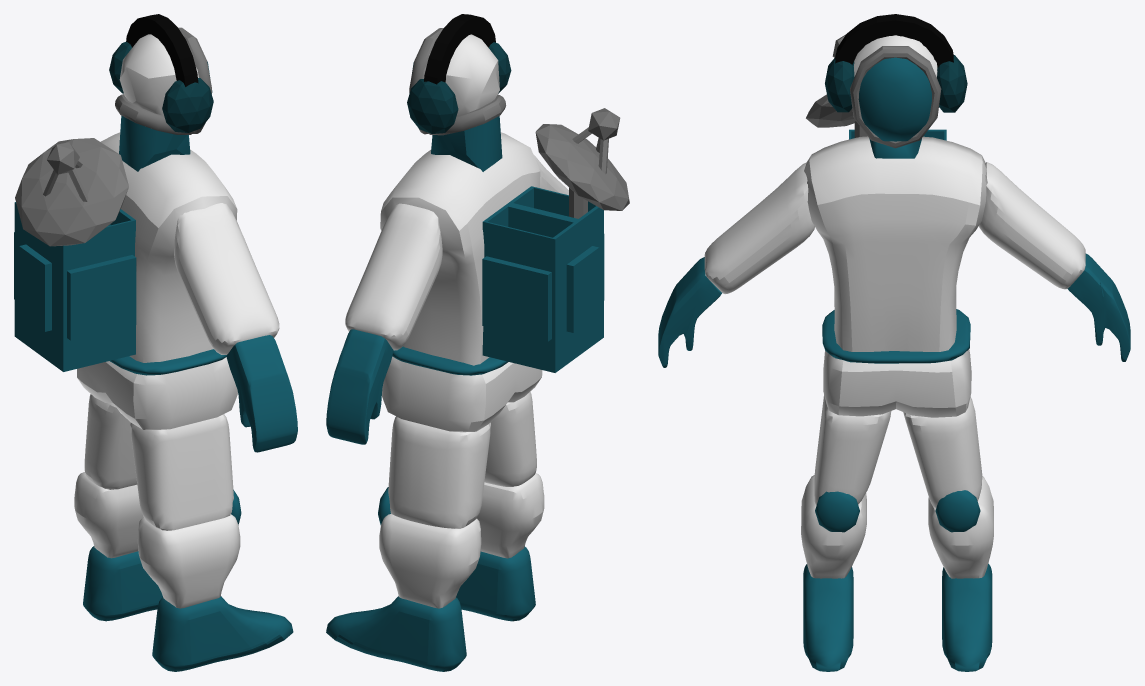
Rendered from Navigator.fbx.
3 renders of one model, left to right at view 1: azimuth 30°, elevation 25°; view 2: azimuth 150°, elevation 25°; view 3: azimuth 270°, elevation 25°, orthographic.
Visible parts, largest first — view 1: Cube.001, Body, ArmRight, LegRight, Icosphere.001, Cube.006, Cube.004, BottomLegRight, HandRight, Cube.002, Cube.003, BottomLegRight.001 (+6 smaller); view 2: Cube.001, Body, LegLeft, ArmLeft, Cube.006, Cube.003, BottomLegRight.001, Icosphere.001, HandRight.001, Cube.002, Cube.004, BottomLegRight (+7 smaller); view 3: Body, Cube.006, ArmRight, ArmLeft, Cube.002, LegLeft, LegRight, BlackCover, Cube.004, Cube.003, BottomLegRight, BottomLegRight.001 (+9 smaller).
Part boxes in pixels (x1,y1,x2,y2): Cube.001: (14, 202, 136, 371); Body: (100, 132, 237, 362); ArmRight: (174, 203, 279, 354); LegRight: (130, 414, 233, 530); Icosphere.001: (15, 138, 128, 246); Cube.006: (77, 357, 237, 430); Cube.004: (152, 596, 293, 671); BottomLegRight: (137, 514, 240, 608); HandRight: (226, 335, 297, 452); Cube.002: (109, 14, 213, 132); Cube.003: (83, 546, 162, 621); BottomLegRight.001: (74, 472, 143, 558); Cube.001: (482, 186, 604, 372); Body: (380, 132, 540, 365); LegLeft: (388, 416, 490, 528); ArmLeft: (345, 203, 442, 350); Cube.006: (382, 356, 542, 432); Cube.003: (326, 596, 466, 671); BottomLegRight.001: (379, 514, 481, 608); Icosphere.001: (535, 108, 629, 218); HandRight.001: (326, 329, 393, 444); Cube.002: (407, 14, 511, 133); Cube.004: (456, 546, 535, 621); BottomLegRight: (477, 473, 544, 558); Body: (804, 136, 986, 351); Cube.006: (823, 349, 971, 417); ArmRight: (704, 162, 814, 294); ArmLeft: (979, 162, 1085, 289); Cube.002: (825, 14, 967, 112); LegLeft: (903, 396, 982, 508); LegRight: (814, 395, 891, 505); BlackCover: (858, 57, 931, 141); Cube.004: (803, 564, 853, 671); Cube.003: (942, 563, 992, 671); BottomLegRight: (801, 475, 866, 578); BottomLegRight.001: (928, 476, 993, 578).
Bounding box in the file's own units: 181 × 431 × 298.
